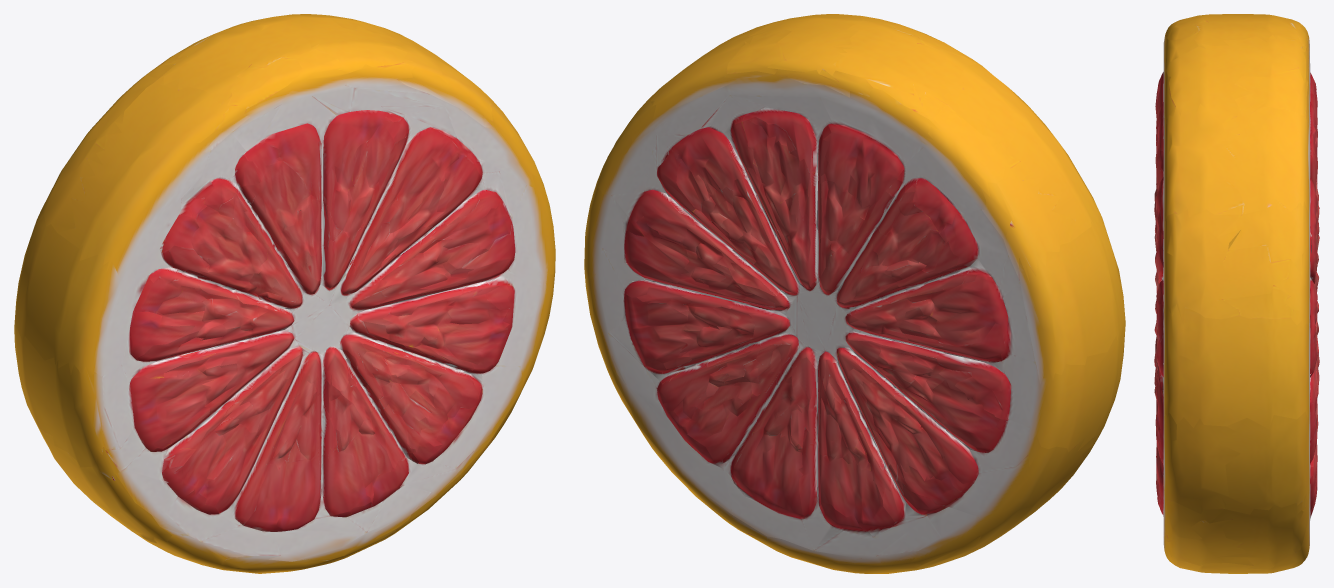
File: fruit-grapefruit.glb
3 renders of one model, left to right at view 1: azimuth 30°, elevation 25°; view 2: azimuth 150°, elevation 25°; view 3: azimuth 270°, elevation 25°, orthographic.
Size of the model in its own units: 1.9 by 1.9 by 0.5585.
Materials: 1 (1 with a texture image).
